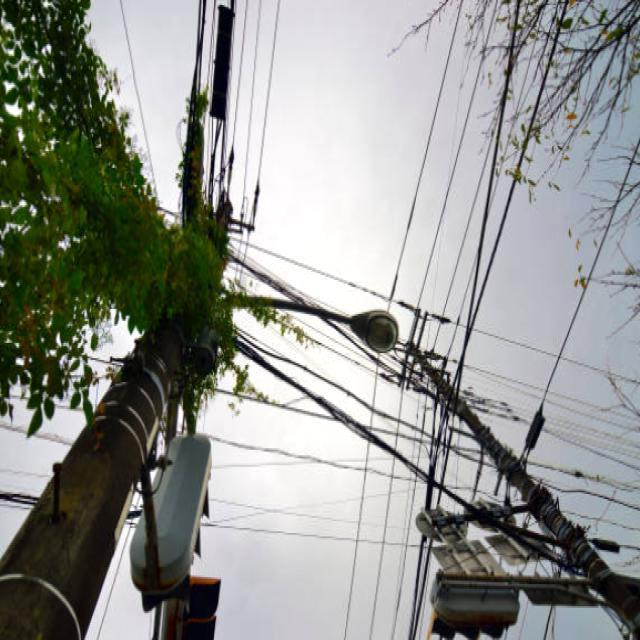critical vegetation: (108, 147, 262, 380)
